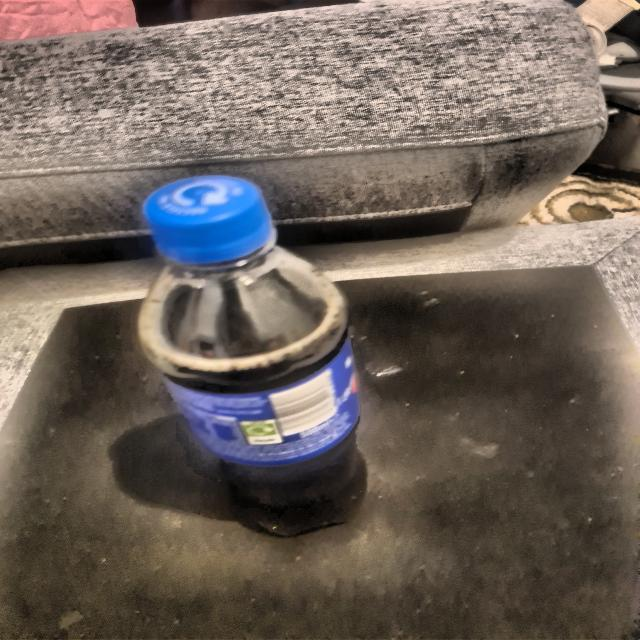pepsi-bottle: (146, 180, 375, 534)
